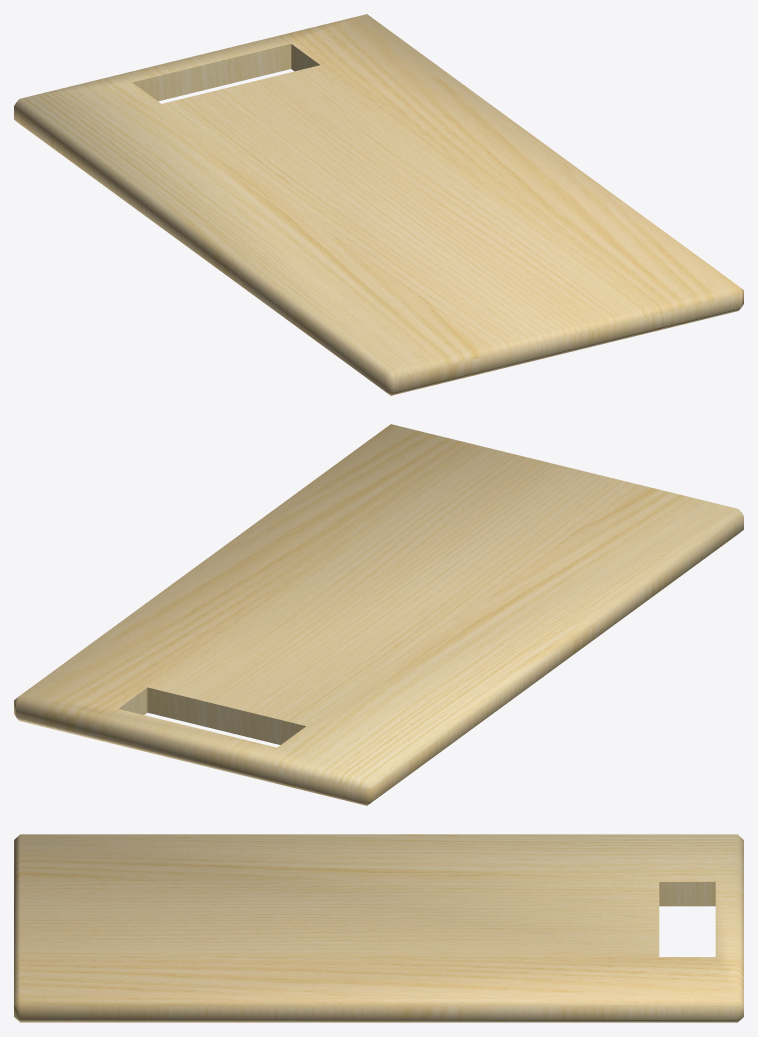
The model's file is Desk.FBX.
3 views of the same model, one above another, from view 1: azimuth 30°, elevation 25°; view 2: azimuth 150°, elevation 25°; view 3: azimuth 270°, elevation 25° (orthographic). The views are drawn at different scales.
Visible parts, largest first — view 1: ChamferBox001; view 2: ChamferBox001; view 3: ChamferBox001.
Boxes of the visible parts, bbox=[...] form: ChamferBox001: bbox=[14, 14, 743, 395]; ChamferBox001: bbox=[14, 424, 743, 805]; ChamferBox001: bbox=[14, 834, 743, 1022].
Size of the model in its own units: 98.37 by 6.62 by 179.
